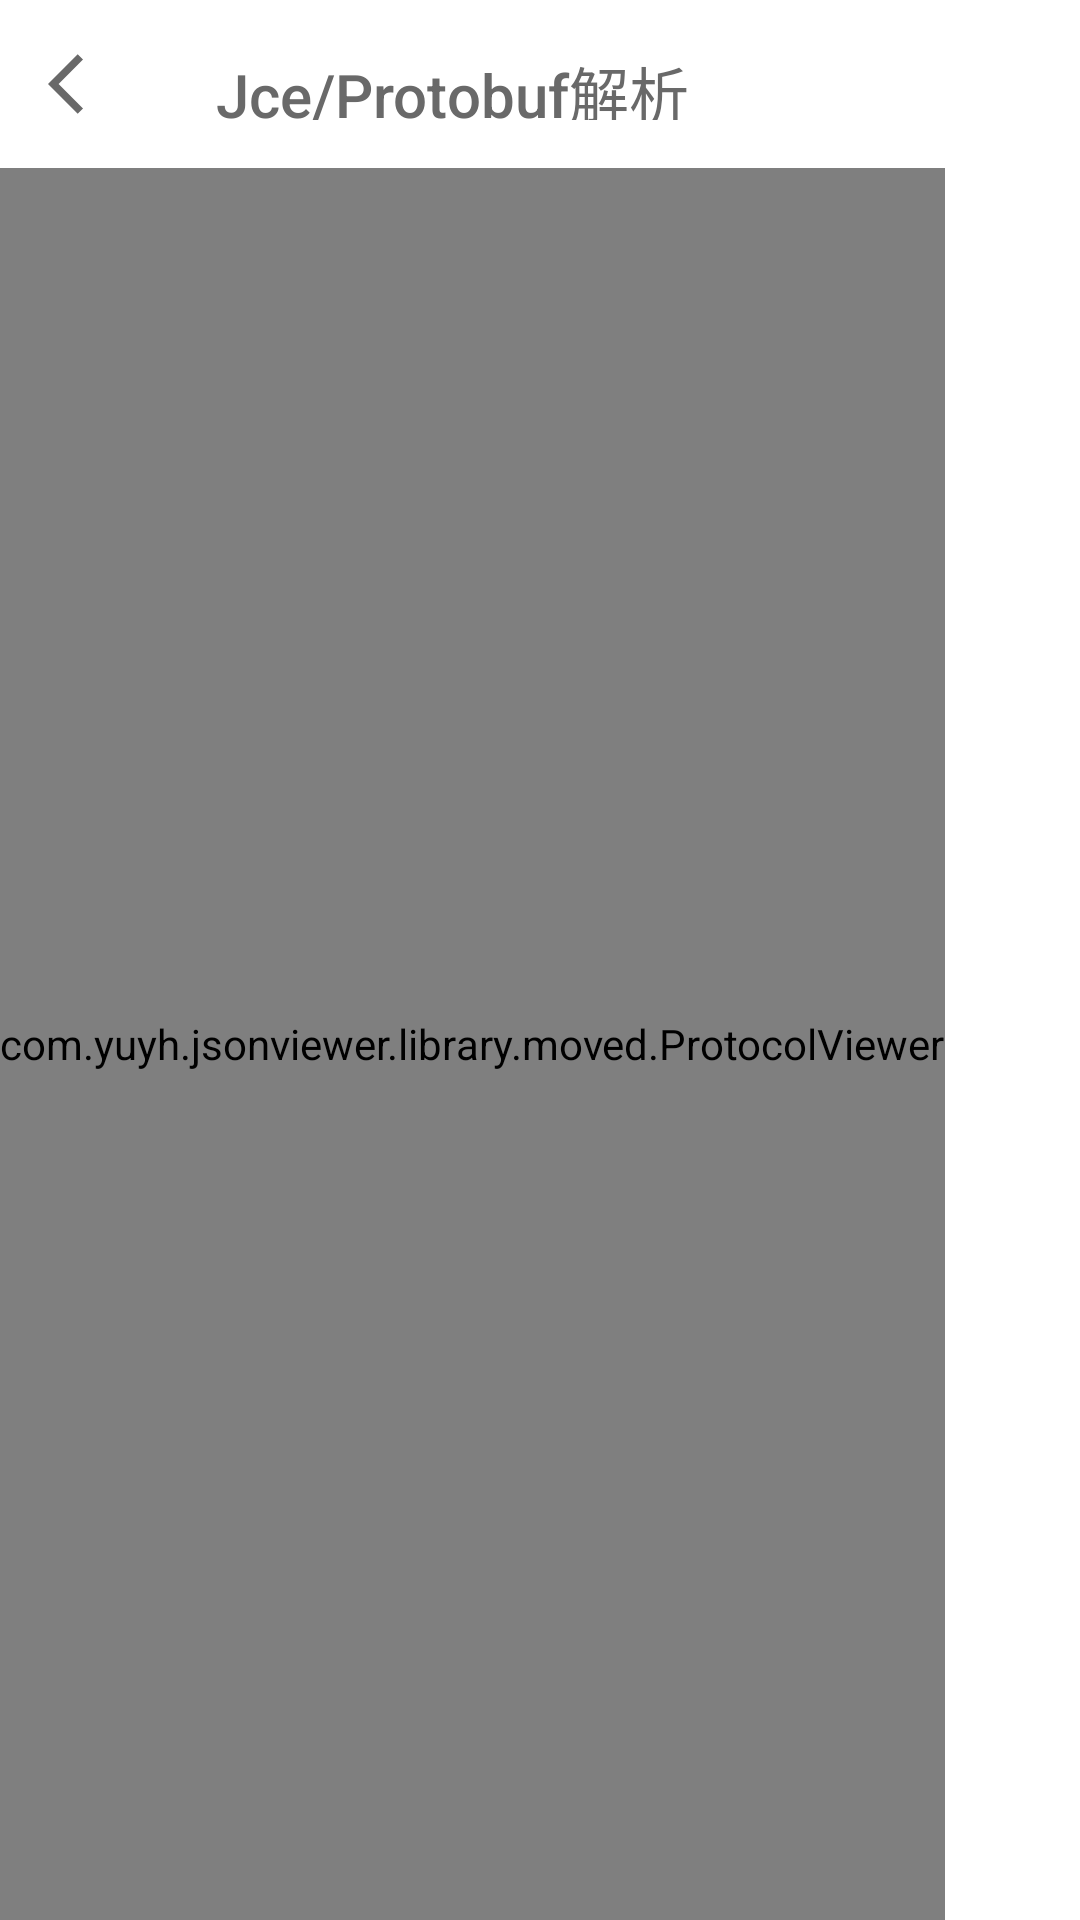

Where icons sit on this 1080px x 1920px app screen, as (x1, y1, x2, y2):
arrow back: (48, 54, 83, 114)
